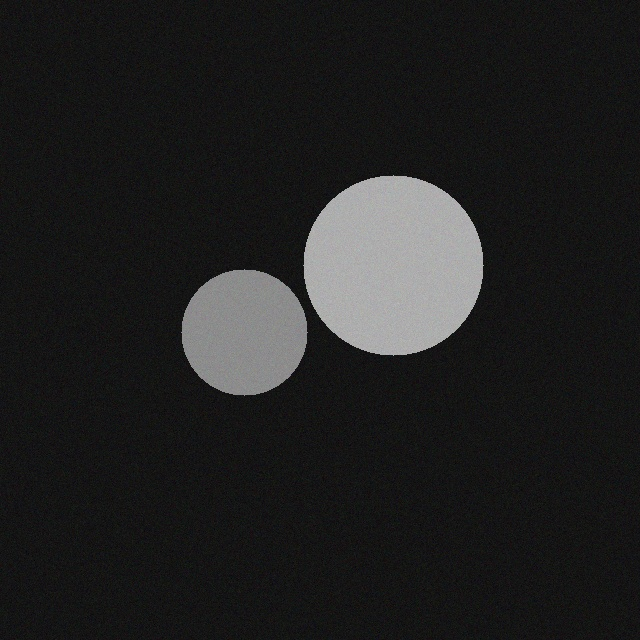circle: (313, 175, 493, 355), (191, 269, 317, 395)
